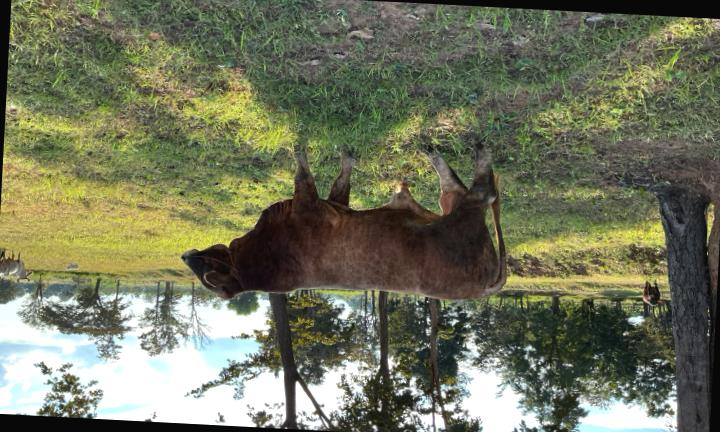Charolais: (181, 146, 506, 299)
